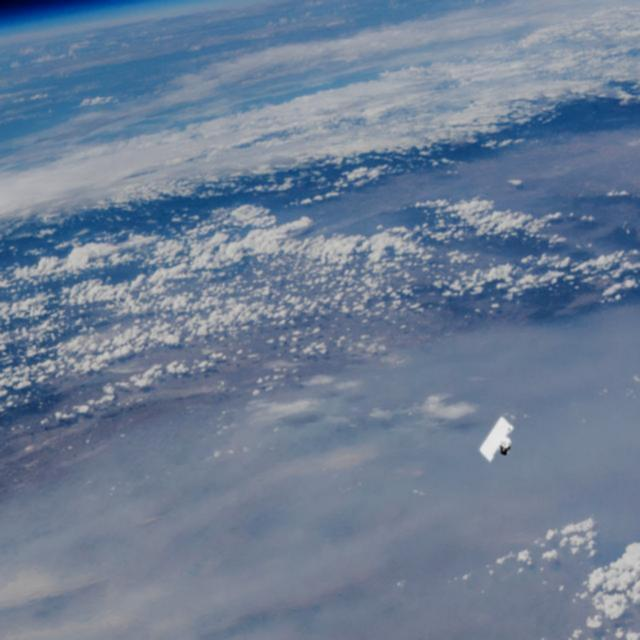satellite: (473, 408, 530, 474)
